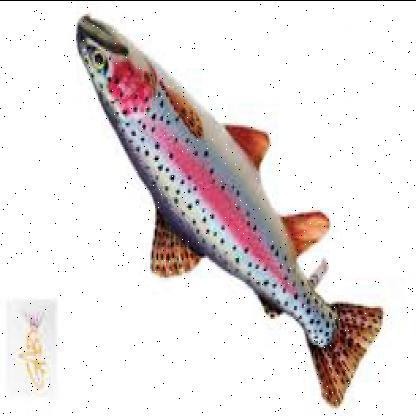fish: (69, 15, 383, 407)
